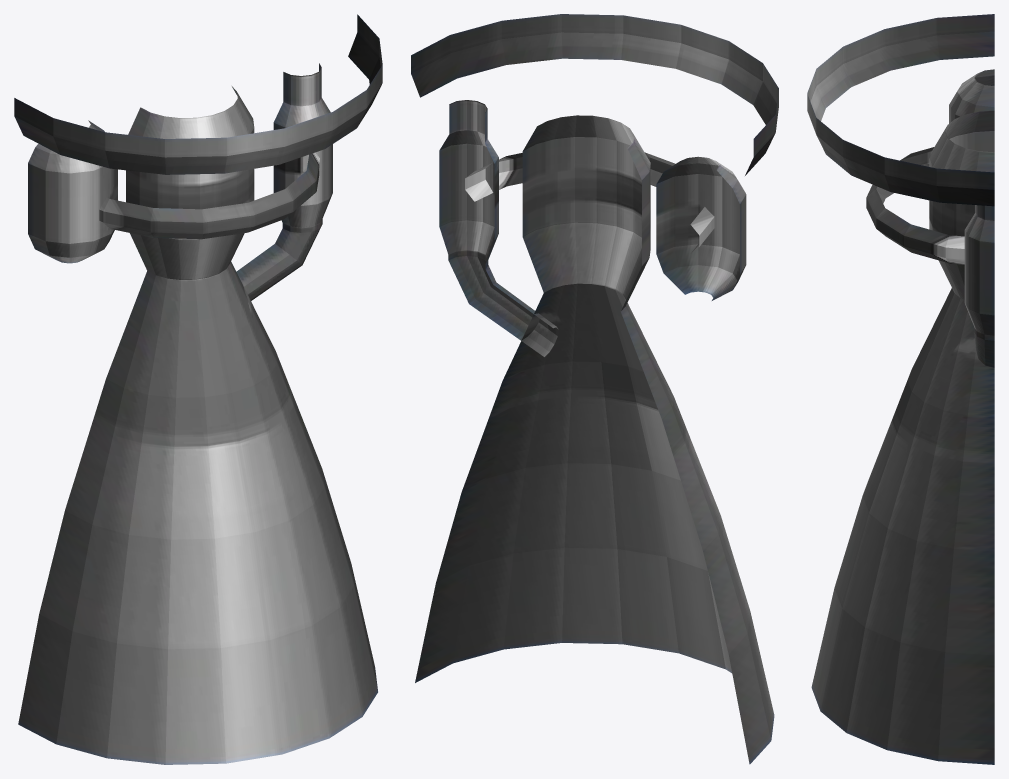
Rendered from EngineFrontier.gltf.
The picture shows the model from 3 angles, left to right: view 1: azimuth 30°, elevation 25°; view 2: azimuth 150°, elevation 25°; view 3: azimuth 270°, elevation 25°; orthographic projection. The views are drawn at different scales.
Parts seen in each view (by area): view 1: model; view 2: model; view 3: model.
Part boxes in pixels (x1,y1,x2,y2): model: (14, 14, 382, 764); model: (411, 14, 778, 764); model: (807, 14, 994, 764).
Size of the model in its own units: 2 by 3.5 by 1.
1 material, 1 textured.
